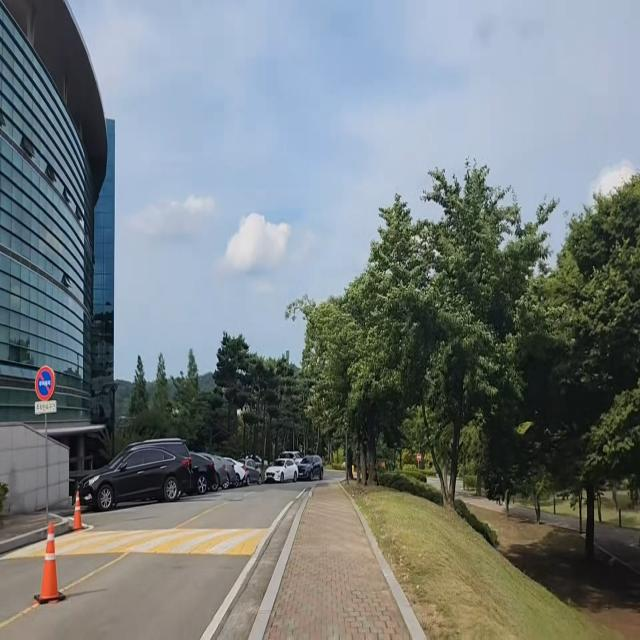obstacle: (72, 429, 197, 512), (188, 445, 326, 497), (30, 359, 60, 523), (25, 510, 68, 609), (70, 485, 91, 535)
road: (0, 485, 312, 640)
sidewalk: (250, 483, 427, 640), (0, 510, 63, 538)
